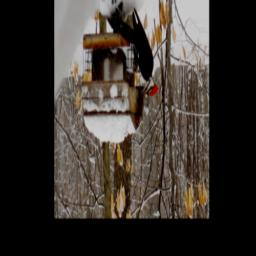Woodpecker: (111, 7, 160, 97)
